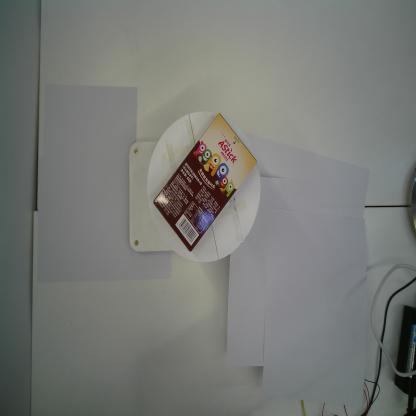Dessert: (152, 110, 258, 254)
